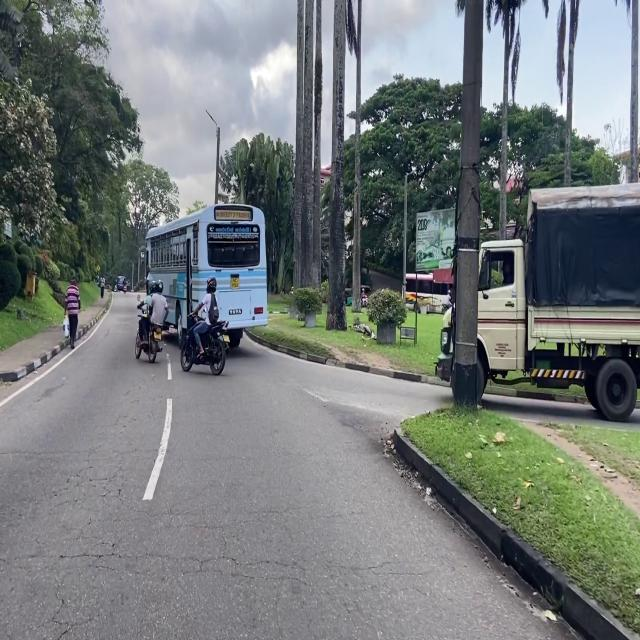bus: (146, 204, 267, 346), (406, 268, 453, 314)
motorcycle: (181, 316, 228, 375), (135, 303, 163, 362), (123, 285, 127, 293)
person: (193, 277, 219, 360), (142, 280, 168, 341), (64, 277, 80, 349), (138, 283, 155, 349), (100, 277, 105, 298), (122, 277, 127, 286)
three wheeler: (345, 287, 352, 306)
truck: (436, 187, 640, 420)
van: (115, 276, 123, 291)
